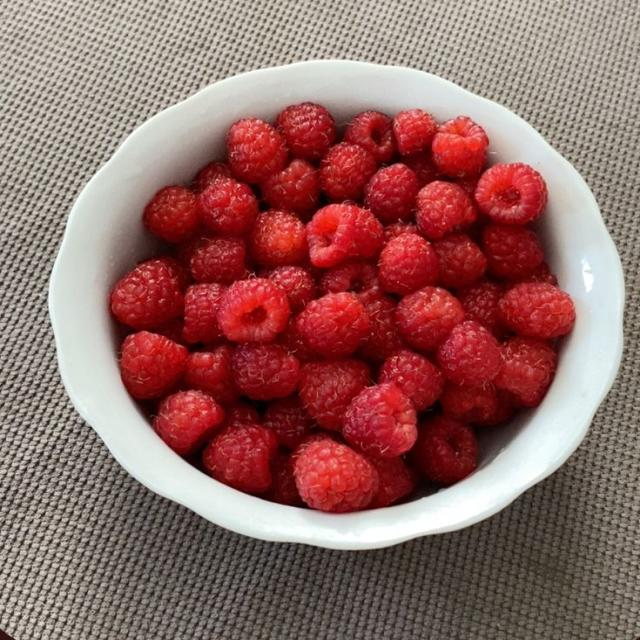raspberry: (295, 439, 378, 512), (343, 384, 417, 457), (110, 259, 183, 329), (203, 424, 277, 493), (299, 359, 370, 430), (307, 204, 383, 268), (297, 293, 370, 357), (217, 279, 289, 342), (120, 332, 188, 398), (153, 391, 223, 455), (411, 417, 477, 484), (475, 163, 547, 224), (495, 337, 557, 407), (396, 287, 464, 350), (499, 283, 575, 339), (437, 321, 500, 386), (378, 350, 444, 411), (227, 119, 288, 183), (231, 345, 299, 400), (379, 234, 438, 294), (358, 289, 405, 362), (277, 103, 336, 161), (416, 181, 476, 238), (483, 224, 544, 280), (432, 117, 488, 177), (320, 143, 377, 201), (183, 345, 239, 404), (249, 210, 308, 266), (200, 179, 258, 235), (262, 159, 320, 214), (364, 164, 419, 222), (307, 204, 357, 267), (440, 383, 513, 426), (143, 186, 199, 242), (433, 233, 487, 289), (263, 395, 314, 450), (344, 111, 395, 163), (190, 238, 247, 284), (458, 280, 504, 337), (184, 284, 226, 342), (370, 458, 416, 508), (267, 266, 316, 312), (263, 453, 303, 507), (393, 109, 437, 156), (277, 318, 320, 362), (319, 261, 378, 293), (145, 256, 192, 292), (351, 208, 383, 258), (176, 228, 215, 267), (293, 431, 342, 457), (403, 152, 438, 188), (192, 162, 231, 193), (510, 262, 558, 286), (155, 318, 189, 346), (223, 401, 260, 426), (384, 223, 418, 243), (455, 176, 478, 197)
